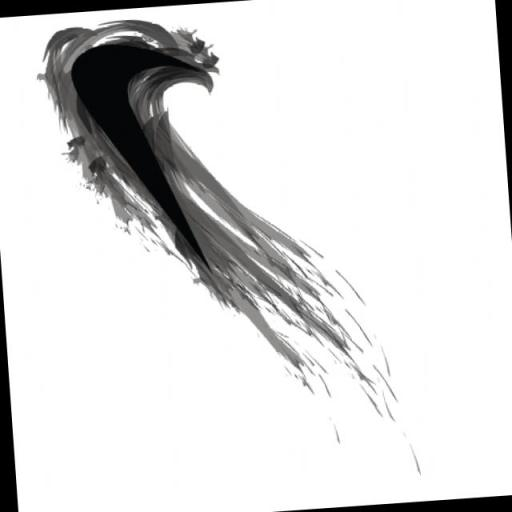Nike: (70, 38, 215, 284)
